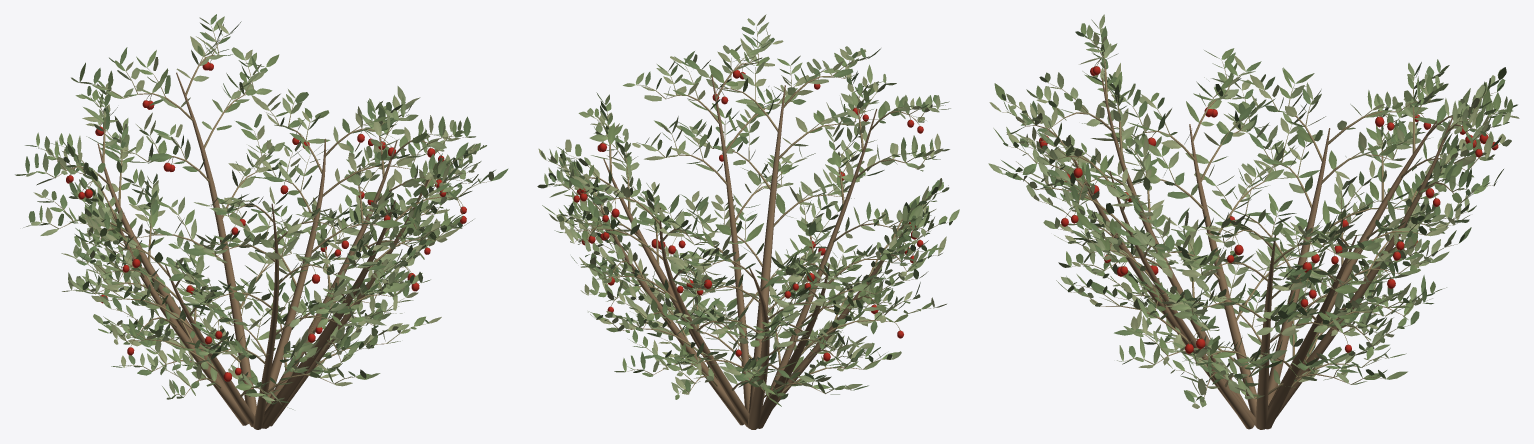
File: berry_bush.glb
3 views of the same model, side by side, from view 1: azimuth 30°, elevation 25°; view 2: azimuth 150°, elevation 25°; view 3: azimuth 270°, elevation 25° (orthographic). The views are drawn at different scales.
Parts seen in each view (by area): view 1: Bush_Foliage, Bush_Wood; view 2: Bush_Foliage, Bush_Wood; view 3: Bush_Foliage, Bush_Wood.
Part boxes in pixels (box(x1,y1,x2,y2)): Bush_Foliage: box(15, 14, 508, 409); Bush_Wood: box(38, 26, 490, 429); Bush_Foliage: box(537, 14, 959, 406); Bush_Wood: box(547, 27, 947, 429); Bush_Foliage: box(988, 14, 1519, 408); Bush_Wood: box(1002, 34, 1504, 429).
Bounding box in the file's own units: 1.51 × 1.17 × 1.62.
